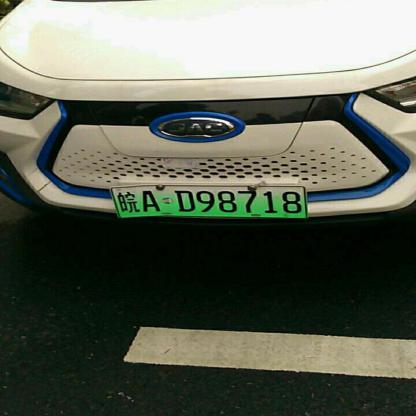lp: (110, 184, 308, 218)
